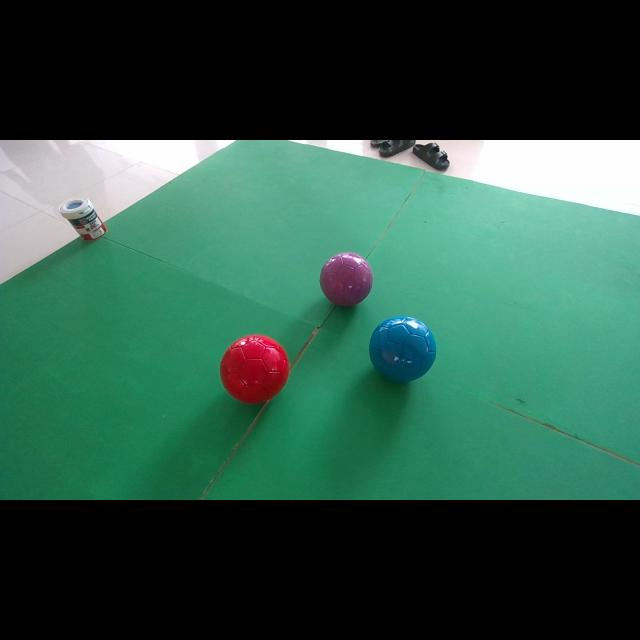B: (369, 315, 436, 382)
P: (320, 252, 372, 306)
R: (220, 335, 290, 404)
